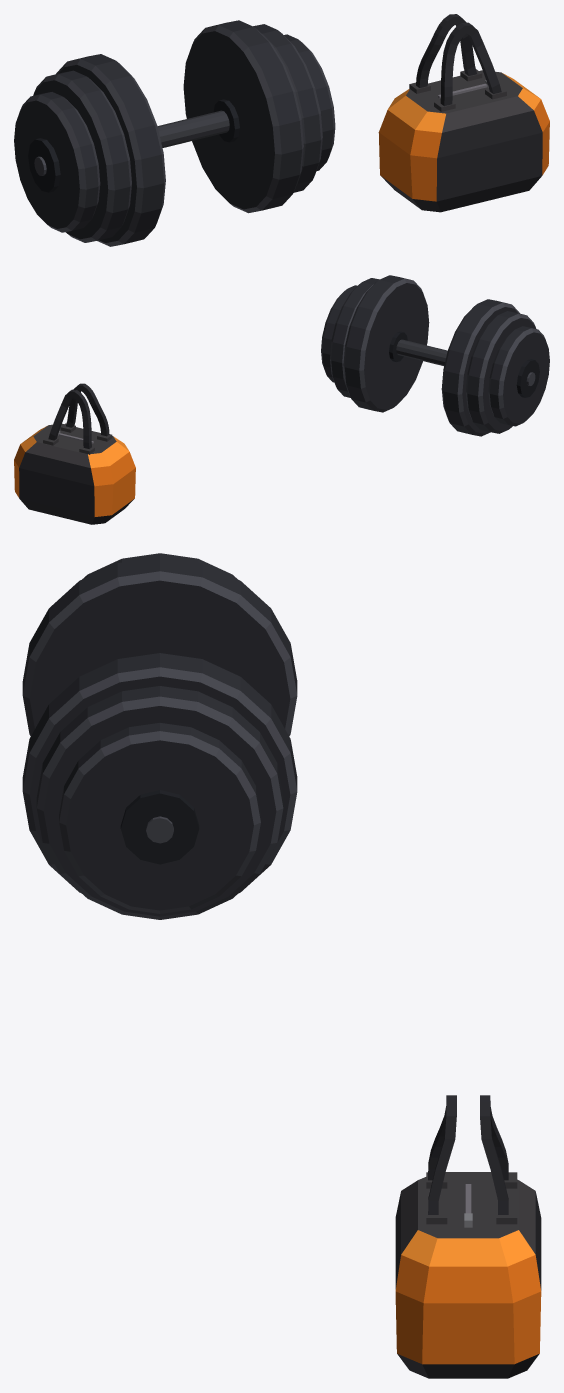
Rendered from GymDad_V2_Props.fbx.
The picture shows the model from 3 angles, top to bottom: view 1: azimuth 30°, elevation 25°; view 2: azimuth 150°, elevation 25°; view 3: azimuth 270°, elevation 25°; orthographic projection. The views are drawn at different scales.
Visible parts, largest first — view 1: Dumbbell_Geo.001, GymBag_Geo.001; view 2: Dumbbell_Geo.001, GymBag_Geo.001; view 3: Dumbbell_Geo.001, GymBag_Geo.001.
Part boxes in pixels (bbox=[...]): Dumbbell_Geo.001: bbox=[14, 20, 335, 246]; GymBag_Geo.001: bbox=[378, 14, 549, 212]; Dumbbell_Geo.001: bbox=[321, 275, 549, 436]; GymBag_Geo.001: bbox=[14, 383, 135, 524]; Dumbbell_Geo.001: bbox=[22, 553, 297, 919]; GymBag_Geo.001: bbox=[395, 1095, 541, 1378].
Size of the model in its own units: 7.08 by 3.55 by 3.7.
Materials: 1 (1 with a texture image).
